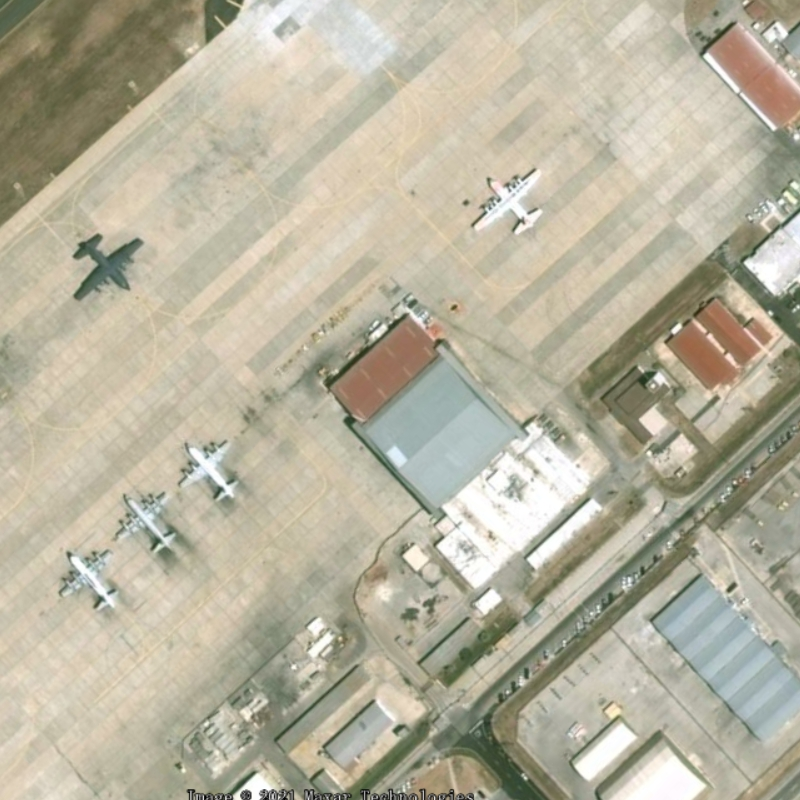A2: (60, 222, 148, 304), (465, 162, 554, 240)
A9: (47, 541, 132, 617), (109, 489, 196, 563), (170, 432, 246, 510)
